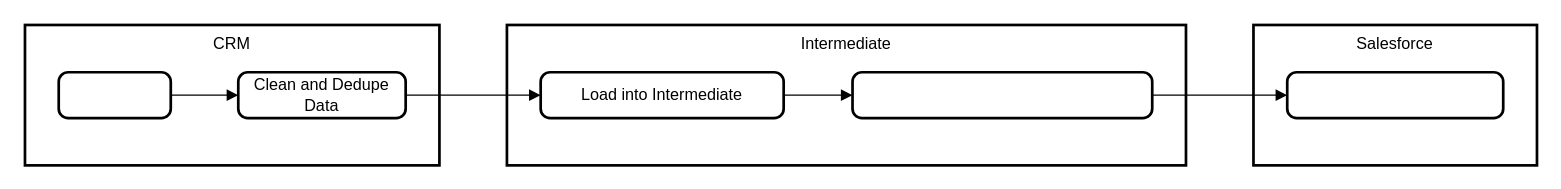
Some shapes in this 1561 by 189 pixel diagram are drawn without their labels. Here are the shapes that lost their labels. From the top down, the box of each, then its label:
(57, 70, 171, 119): CRM Data
(850, 70, 1153, 119): Transform Intermediate Data
(1285, 70, 1504, 119): Load into Salesforce
